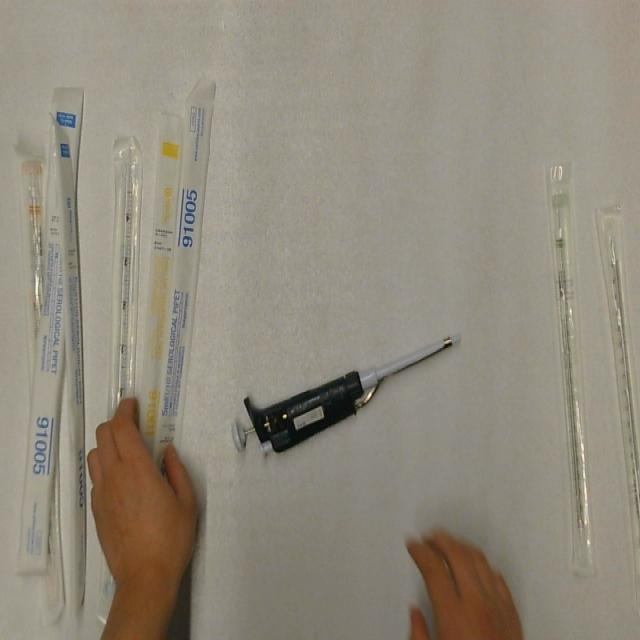Serelogical Pipet 1 mL - Sealed: (138, 109, 186, 454)
Serelogical Pipet 10 mL - Sealed: (19, 155, 49, 413)
Serelogical Pipet 2 mL - Sealed: (540, 160, 600, 583)
Serelogical Pipet 5 mL - Sealed: (13, 82, 88, 578), (152, 72, 222, 484), (49, 114, 91, 616)
Single Channel Pipettor: (228, 328, 464, 464)
